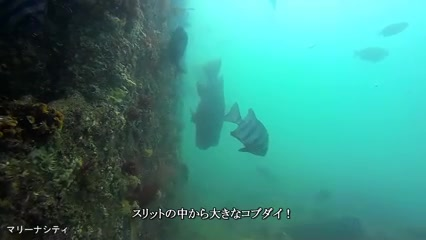smallfish: (192, 54, 231, 157), (225, 103, 274, 158)
